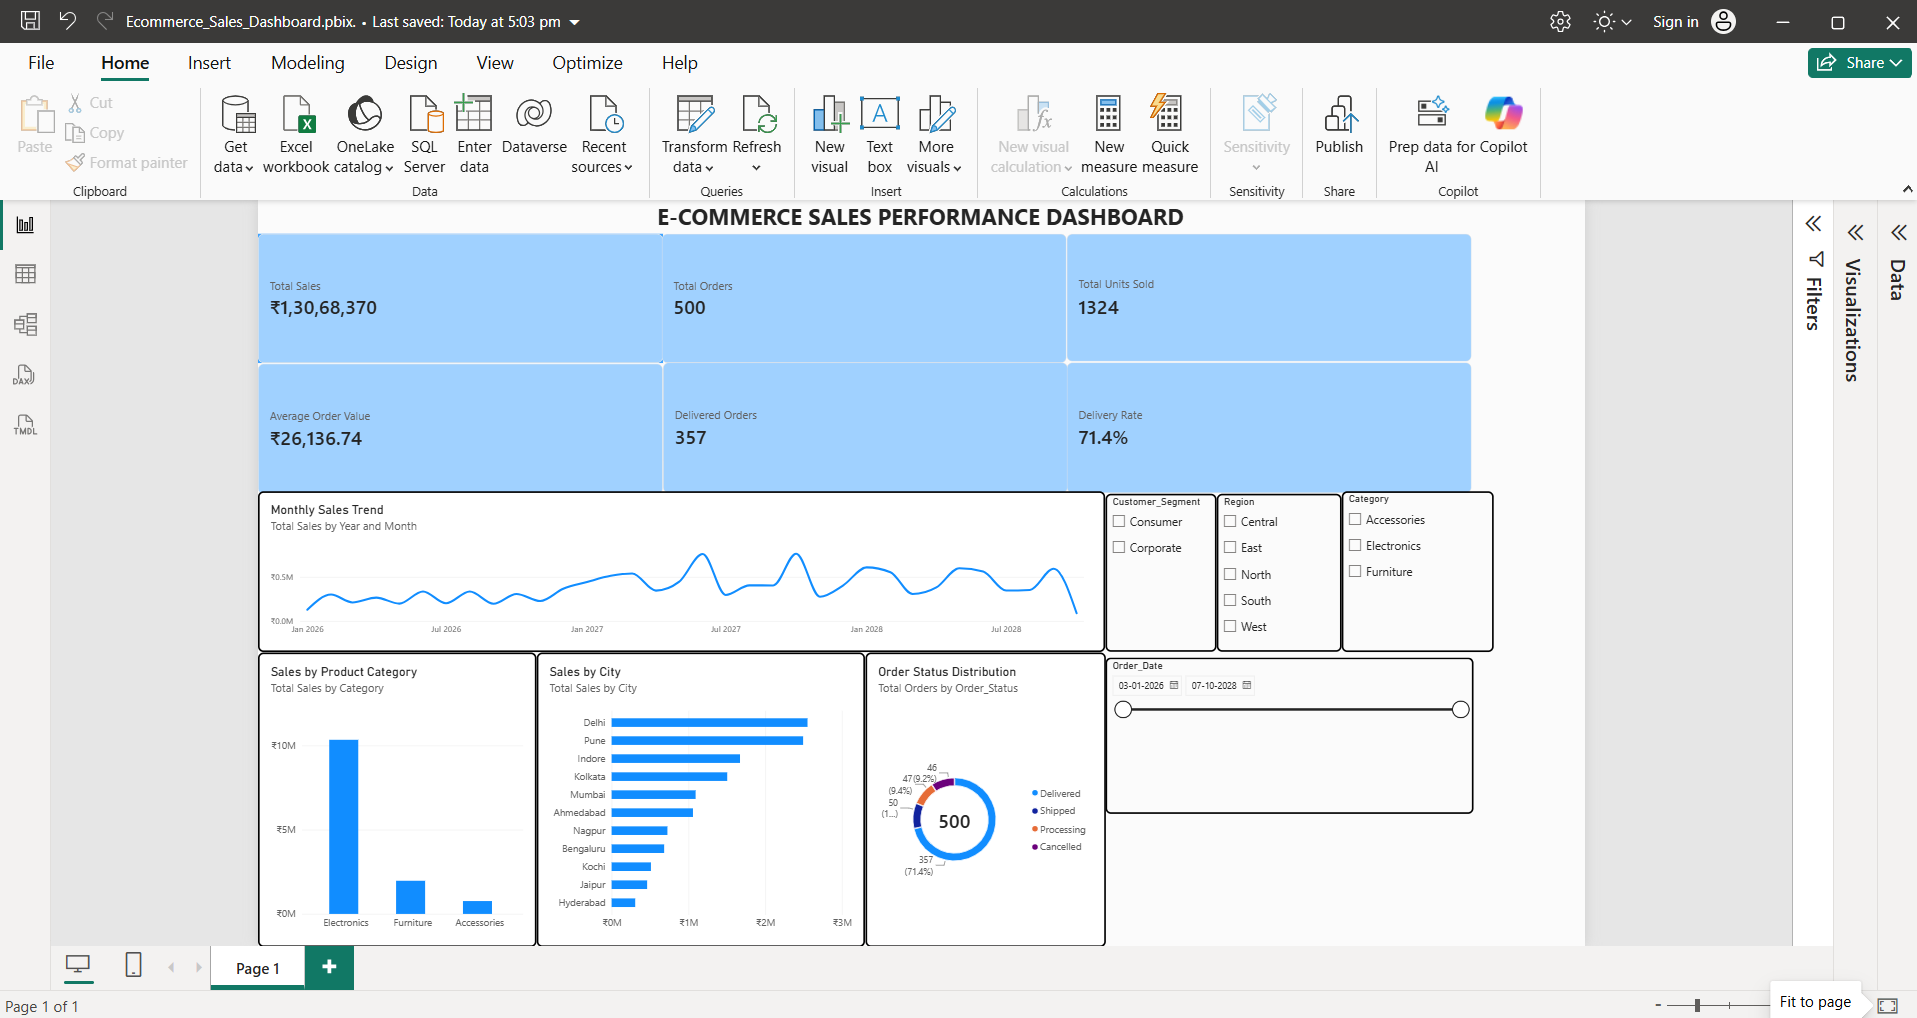

What the dashboard file says about the page in this screenshot:
{"tool":"powerbi","page":{"name":"Page 1","canvas":[1920,1080],"ordinal":0},"visuals":[{"type":"cardVisual","fields":{"Data":["Orders.Total Sales"]},"box":[0,49.4,586.6,187.3],"z":0},{"type":"cardVisual","fields":{"Data":["Orders.Total Orders"]},"box":[584.6,49.4,586.6,187.3],"z":1},{"type":"cardVisual","fields":{"Data":["Orders.Total Units Sold"]},"box":[1171.2,49.4,586.6,185.2],"z":2},{"type":"cardVisual","fields":{"Data":["Orders.Average Order Value"]},"box":[0,236.7,586.6,189.4],"z":3},{"type":"cardVisual","fields":{"Data":["Orders.Delivered Orders"]},"box":[586.6,234.6,586.6,189.4],"z":4},{"type":"cardVisual","fields":{"Data":["Orders.Delivery Rate"]},"box":[1171.2,234.6,586.6,189.4],"z":5},{"type":"lineChart","title":"Monthly Sales Trend","fields":{"Category":["Orders.Order_Date.Variation.Date Hierarchy.Year","Orders.Order_Date.Variation.Date Hierarchy.Month"],"Y":["Orders.Total Sales"]},"box":[0,422,1226.8,232.6],"z":6},{"type":"clusteredColumnChart","title":"Sales by Product Category","fields":{"Category":["products.Category"],"Y":["Orders.Total Sales"]},"box":[0,654.5,403.4,426.1],"z":7},{"type":"clusteredBarChart","title":"Sales by City","fields":{"Category":["Customers.City"],"Y":["Orders.Total Sales"]},"box":[403.4,654.5,475.5,426.1],"z":8},{"type":"donutChart","title":"Order Status Distribution","fields":{"Category":["Orders.Order_Status"],"Y":["Orders.Total Orders"]},"box":[878.9,654.5,347.9,426.1],"z":9},{"type":"slicer","fields":{"Values":["Customers.Region"]},"box":[1387.3,426.1,181.1,228.5],"z":10},{"type":"slicer","fields":{"Values":["Customers.Customer_Segment"]},"box":[1226.8,426.1,160.5,228.5],"z":11},{"type":"slicer","fields":{"Values":["Orders.Order_Date"]},"box":[1226.8,662.8,533.1,226.4],"z":12},{"type":"slicer","fields":{"Values":["products.Category"]},"box":[1568.4,422,220.2,232.6],"z":13},{"type":"textbox","box":[1738,379,182,319],"z":14},{"type":"textbox","box":[1759,700,161,380],"z":15},{"type":"textbox","box":[1760,2,160,185],"z":16},{"type":"textbox","box":[1760,189,160,189],"z":17},{"type":"textbox","box":[0,2.1,1918.4,92.6],"z":18}]}

Visuals, with their boxes on the page's 1920x1080 design canvas (x1, y1, x2, y2). These are canvas units, not pixel positions in the 1917x1018 screenshot, which may show the page scaled, cropped or inside an application window:
cardVisual - Orders.Total Sales: bbox(0, 49, 587, 237)
cardVisual - Orders.Total Orders: bbox(585, 49, 1171, 237)
cardVisual - Orders.Total Units Sold: bbox(1171, 49, 1758, 235)
cardVisual - Orders.Average Order Value: bbox(0, 237, 587, 426)
cardVisual - Orders.Delivered Orders: bbox(587, 235, 1173, 424)
cardVisual - Orders.Delivery Rate: bbox(1171, 235, 1758, 424)
"Monthly Sales Trend" lineChart: bbox(0, 422, 1227, 655)
"Sales by Product Category" clusteredColumnChart: bbox(0, 654, 403, 1081)
"Sales by City" clusteredBarChart: bbox(403, 654, 879, 1081)
"Order Status Distribution" donutChart: bbox(879, 654, 1227, 1081)
slicer - Customers.Region: bbox(1387, 426, 1568, 655)
slicer - Customers.Customer_Segment: bbox(1227, 426, 1387, 655)
slicer - Orders.Order_Date: bbox(1227, 663, 1760, 889)
slicer - products.Category: bbox(1568, 422, 1789, 655)
textbox: bbox(1738, 379, 1920, 698)
textbox: bbox(1759, 700, 1920, 1080)
textbox: bbox(1760, 2, 1920, 187)
textbox: bbox(1760, 189, 1920, 378)
textbox: bbox(0, 2, 1918, 95)
